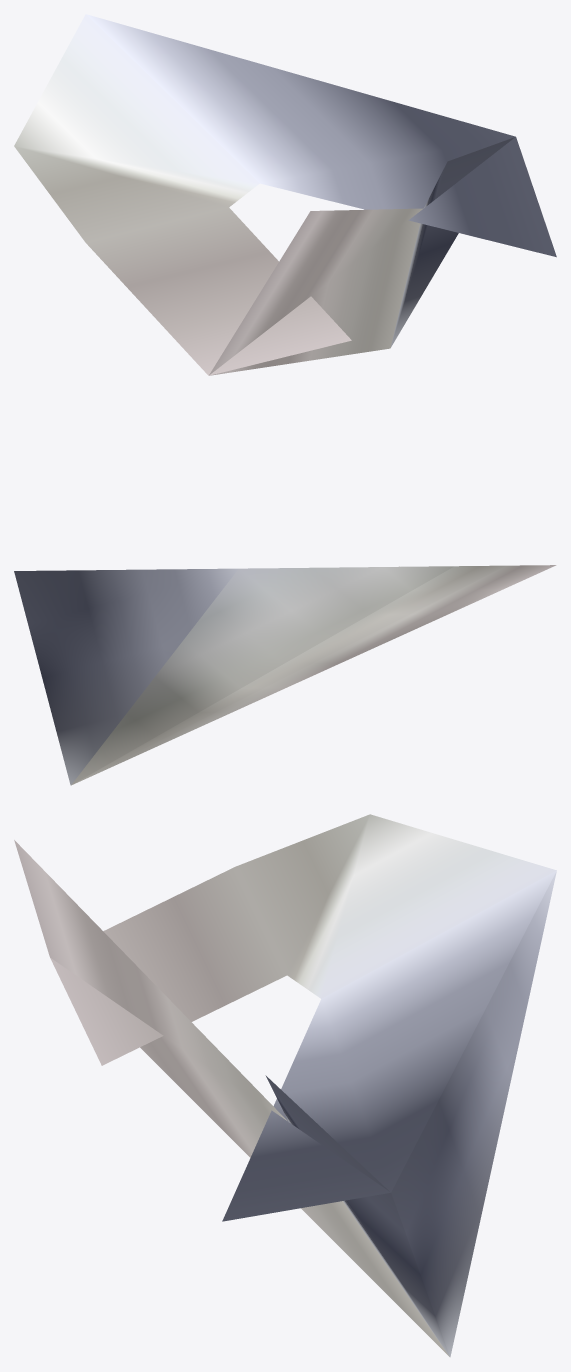
3 views of the same model, one above another, from view 1: azimuth 30°, elevation 25°; view 2: azimuth 150°, elevation 25°; view 3: azimuth 270°, elevation 25° (orthographic). The views are drawn at different scales.
Size of the model in its own units: 5.69 by 3.89 by 5.15.
1 material, 1 textured.
